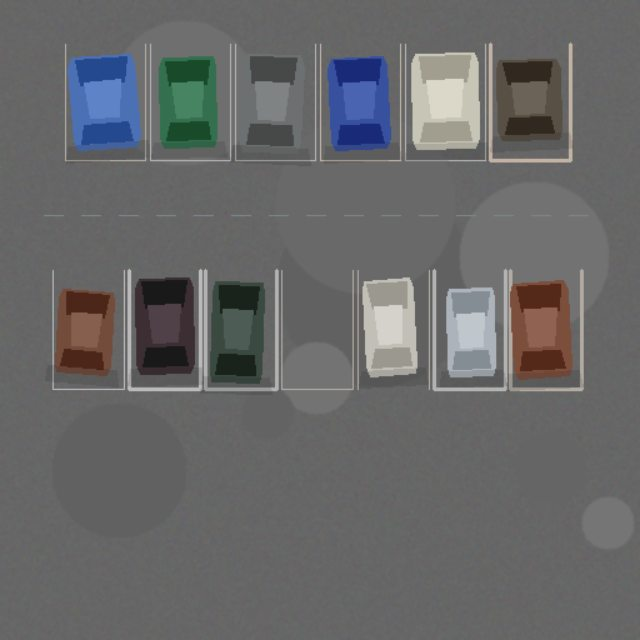space-empty: (281, 270, 352, 389)
space-occupied: (65, 44, 145, 160), (150, 44, 230, 160), (235, 44, 315, 160), (320, 44, 400, 160), (405, 44, 485, 160), (490, 44, 570, 160), (52, 270, 124, 389), (129, 270, 200, 389), (205, 270, 276, 389), (358, 270, 429, 389), (434, 270, 505, 389), (510, 270, 581, 389)
